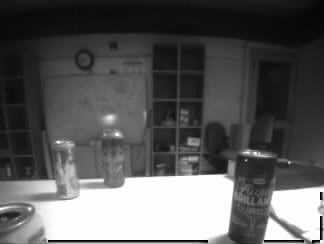Tin can: (231, 149, 272, 243), (1, 202, 44, 244), (52, 139, 79, 197), (101, 128, 125, 187)
